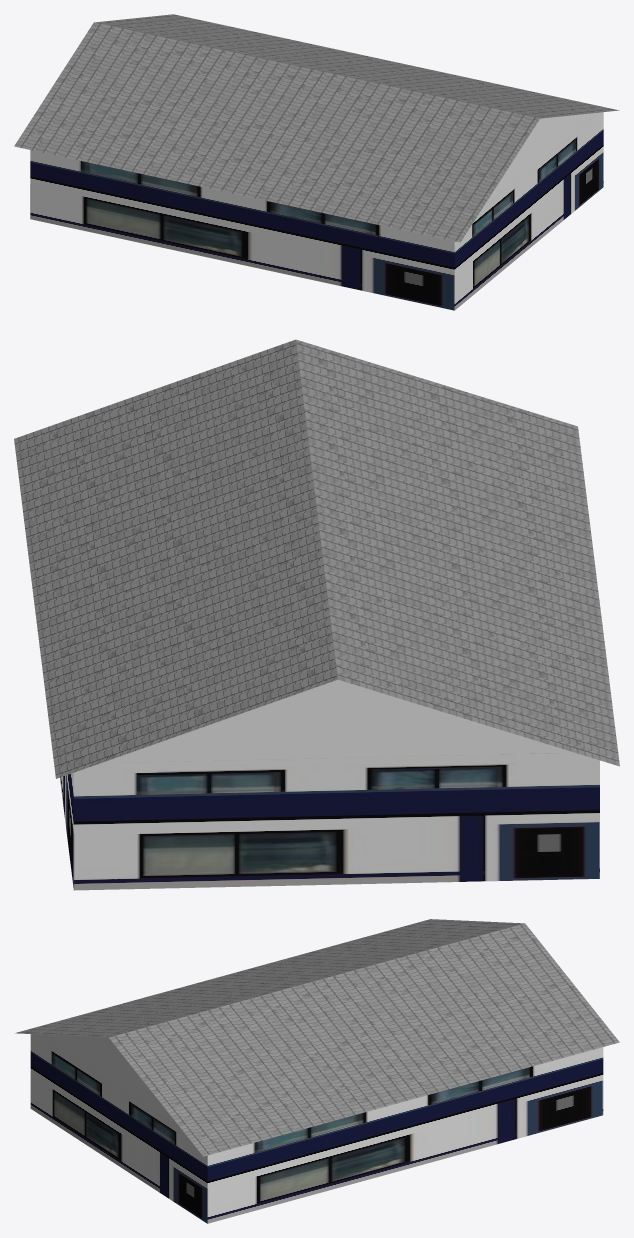
The picture shows the model from 3 angles, top to bottom: view 1: azimuth 30°, elevation 25°; view 2: azimuth 150°, elevation 25°; view 3: azimuth 270°, elevation 25°; orthographic projection. The views are drawn at different scales.
Visible parts, largest first — view 1: CityEngineMaterial_4_m, CityEngineMaterial_2_m, CityEngineMaterial_3_m; view 2: CityEngineMaterial_4_m, CityEngineMaterial_2_m, CityEngineMaterial_3_m; view 3: CityEngineMaterial_4_m, CityEngineMaterial_2_m, CityEngineMaterial_3_m.
Part boxes in pixels (box(x1,y1,x2,y2)): CityEngineMaterial_4_m: box(14, 14, 619, 242); CityEngineMaterial_2_m: box(30, 112, 603, 310); CityEngineMaterial_3_m: box(482, 112, 597, 208); CityEngineMaterial_4_m: box(14, 339, 619, 778); CityEngineMaterial_2_m: box(60, 753, 599, 890); CityEngineMaterial_3_m: box(101, 679, 574, 763); CityEngineMaterial_4_m: box(15, 919, 619, 1156); CityEngineMaterial_2_m: box(30, 1034, 603, 1223); CityEngineMaterial_3_m: box(36, 1034, 180, 1128).
Size of the model in its own units: 45.35 by 11.71 by 48.88.
